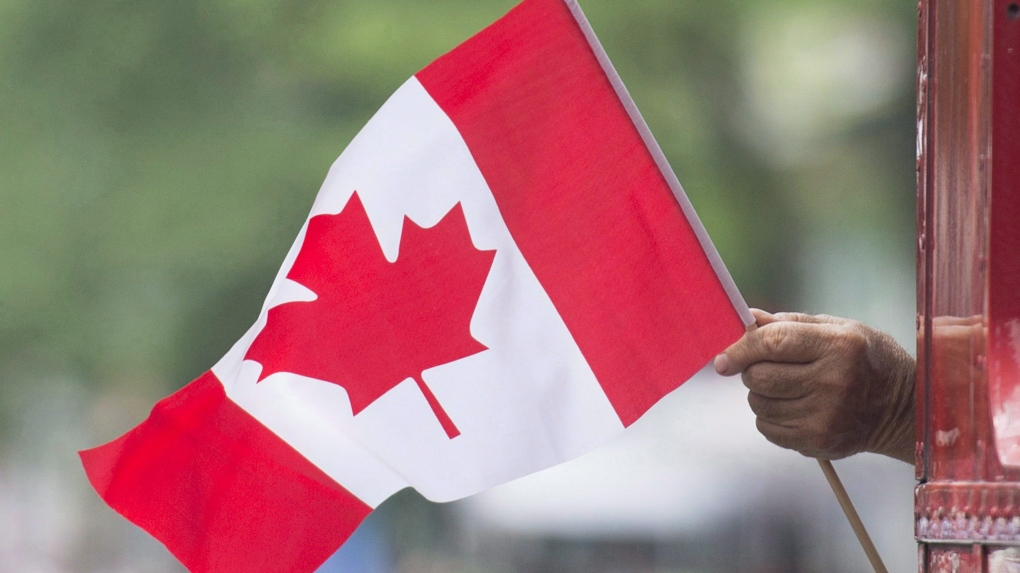Canada flag: (89, 2, 752, 573)
